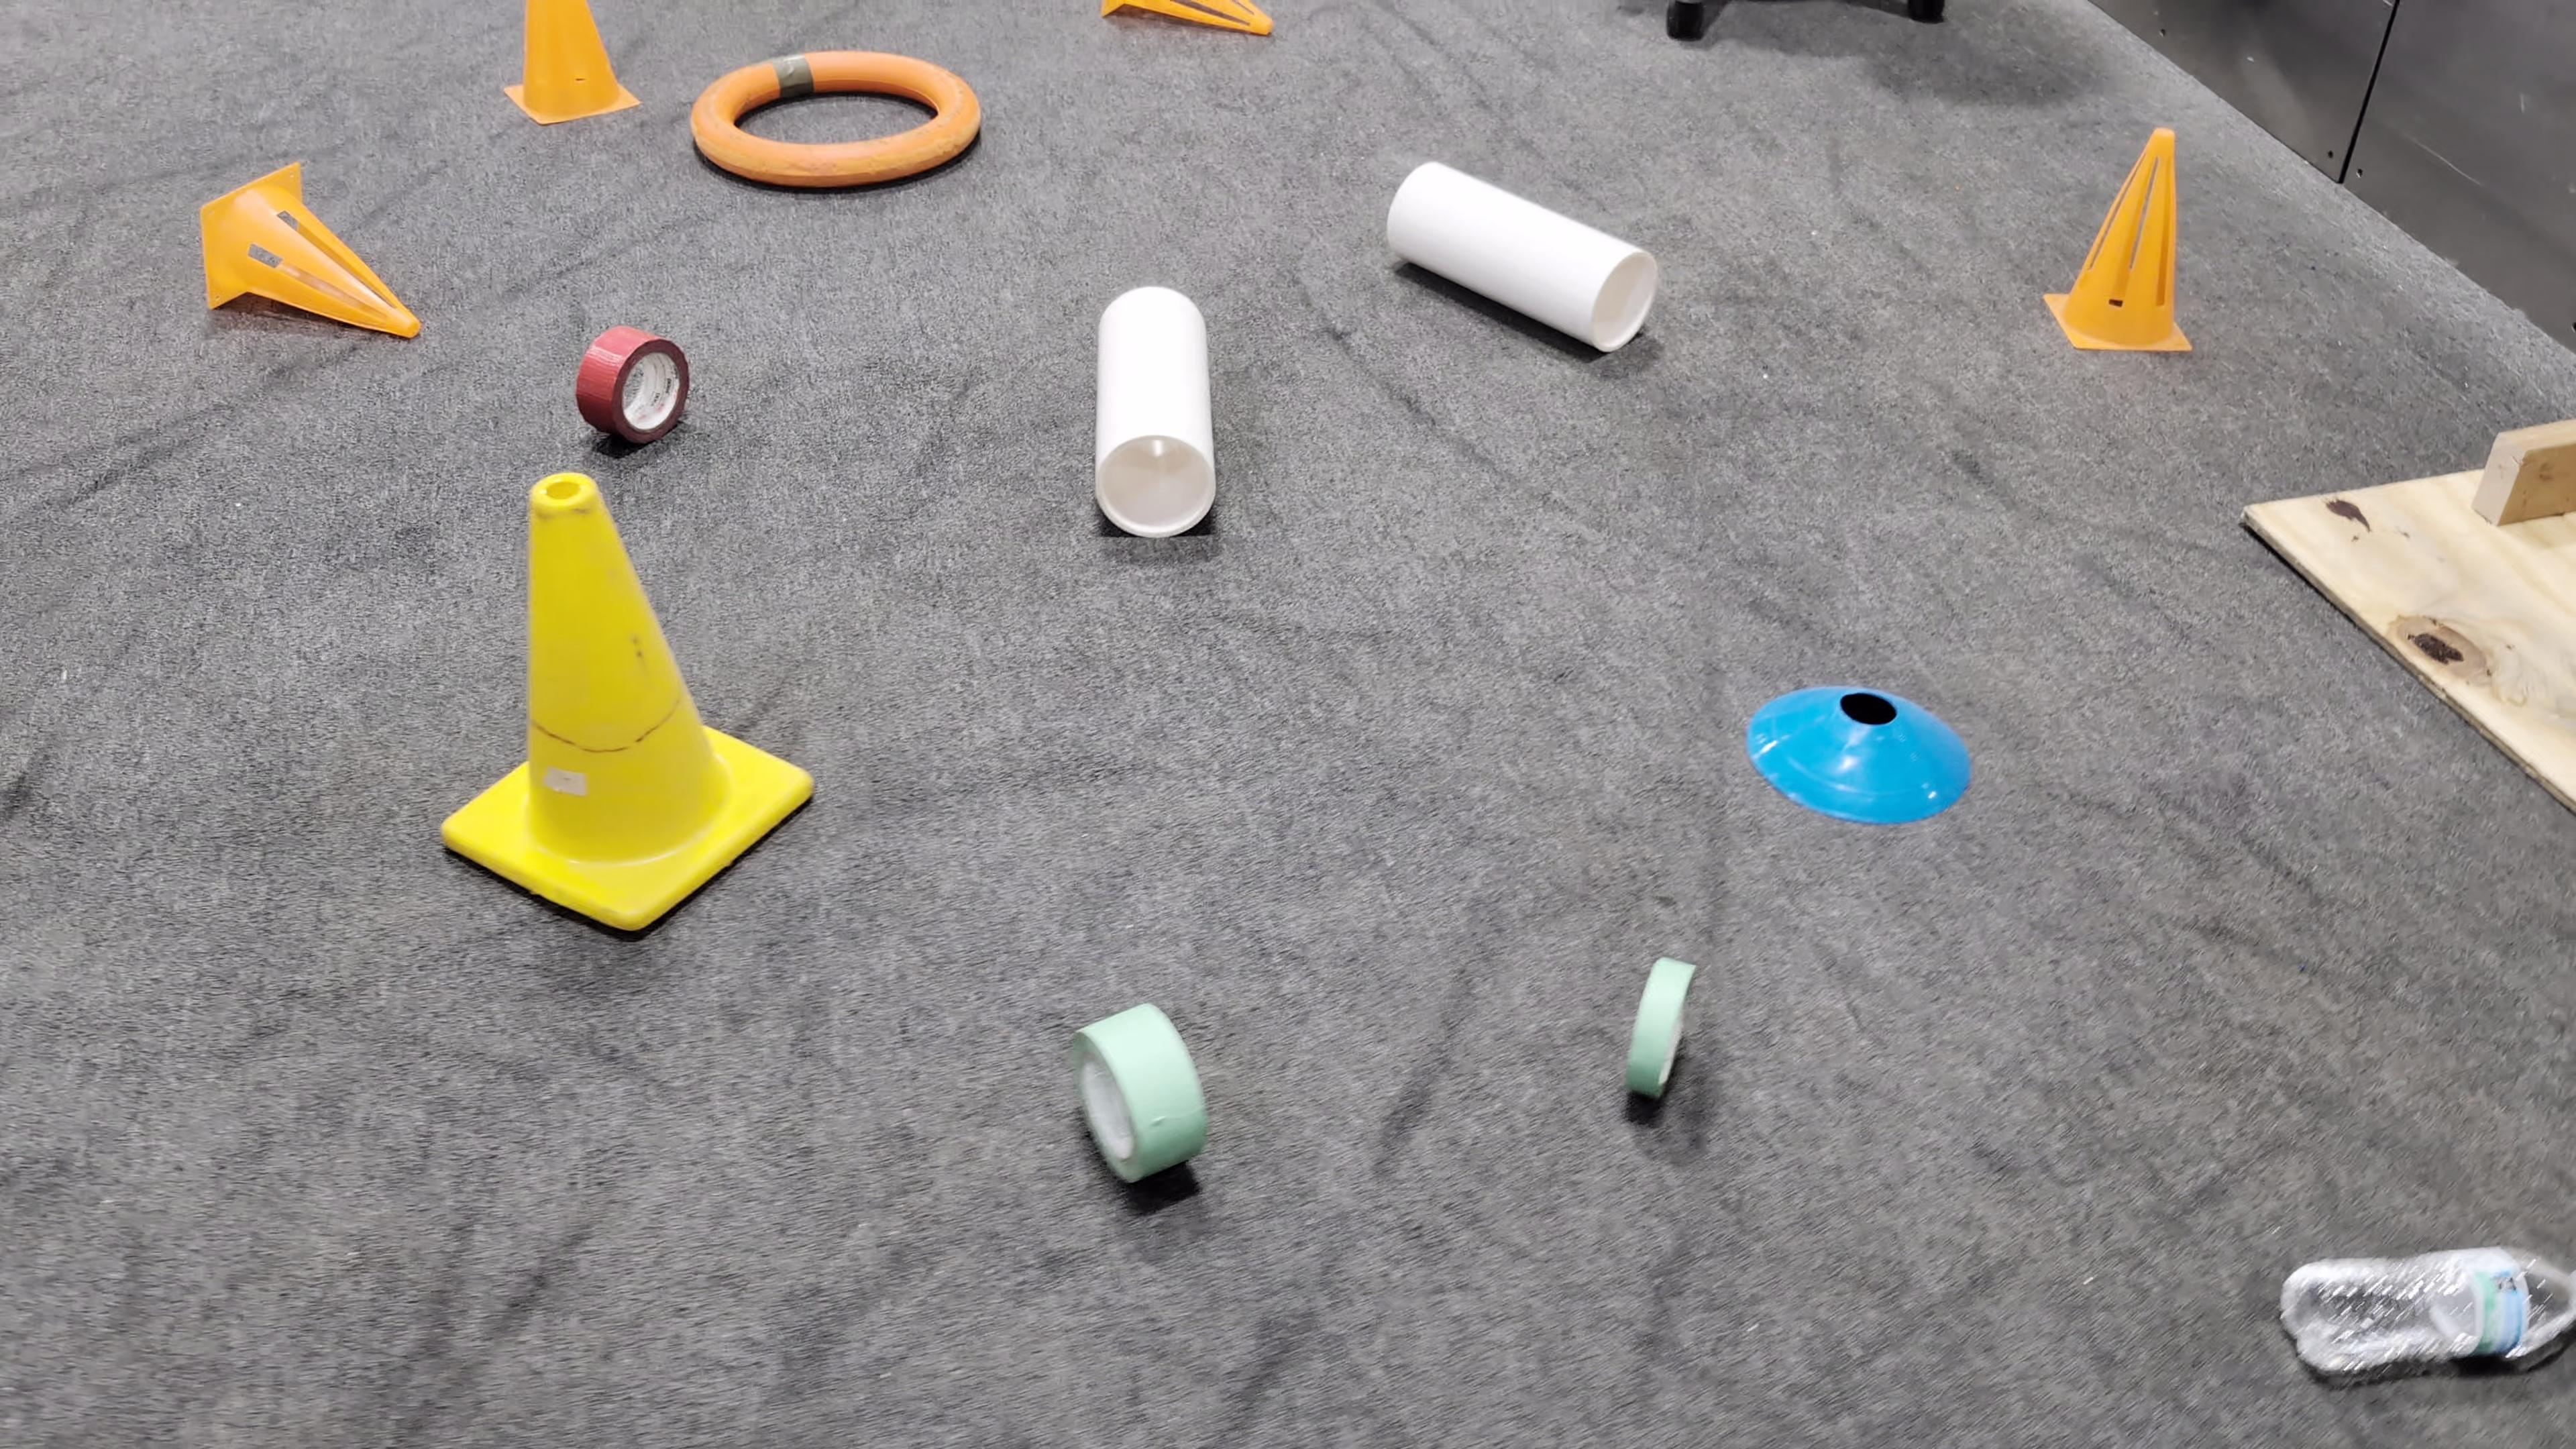coral: (1387, 158, 1660, 352), (1093, 284, 1218, 535)
